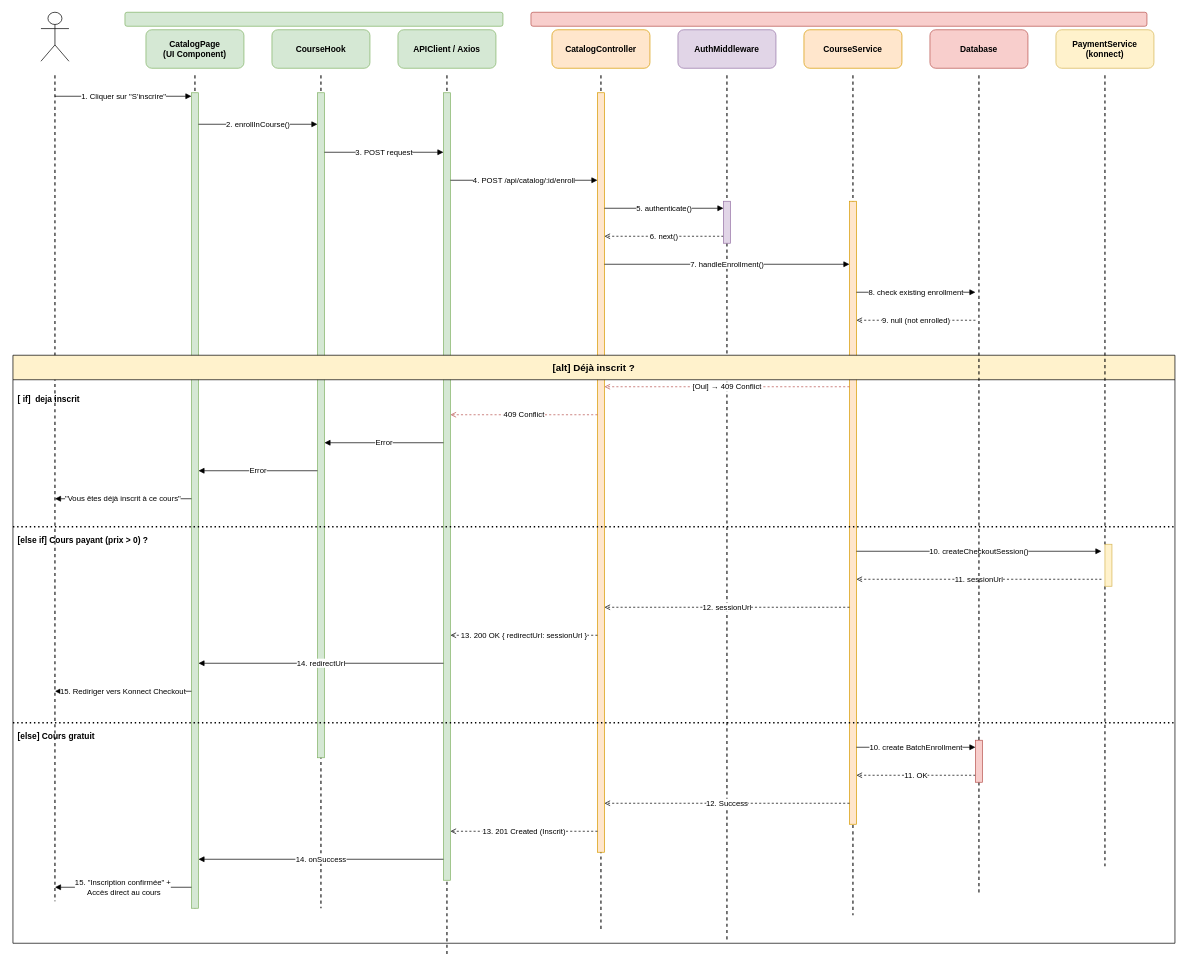
Some shapes in this 1187 by 971 pixel diagram are drawn without their labels. The centre of each missing label's shape, as x and y in pixels:
"Backend + db + Services" belongs at pixel 838 19.
"Frontend" belongs at pixel 313 19.
"Étudiant" belongs at pixel 54 36.
